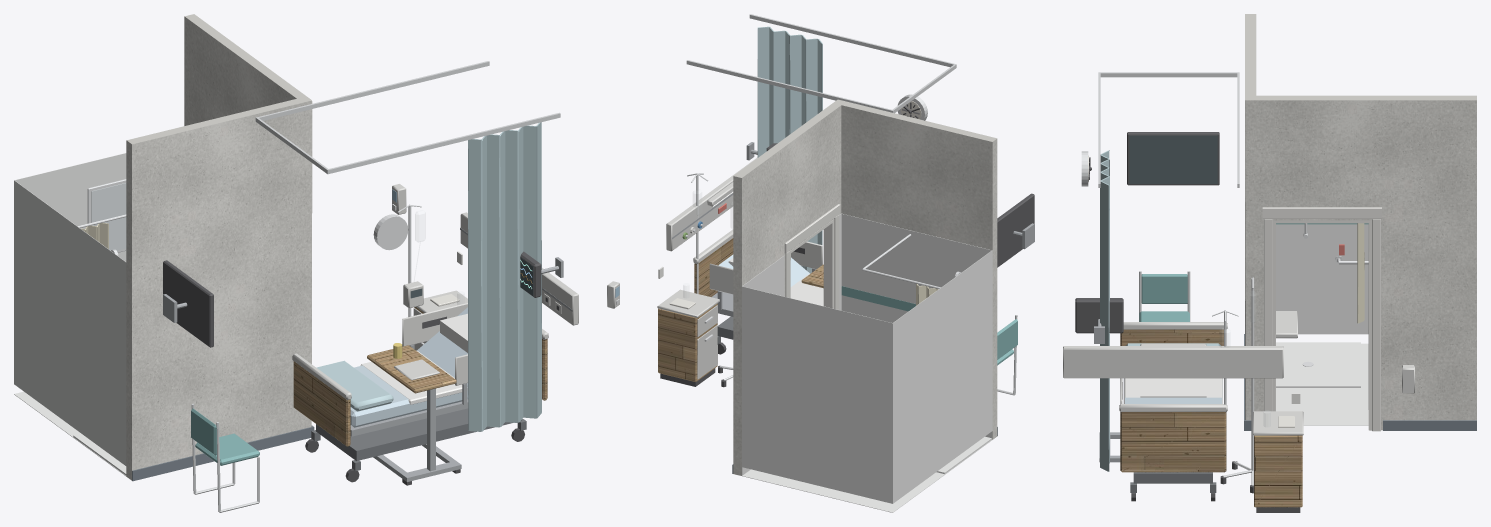
File: room_ward_364x358.glb
3 renders of one model, left to right at view 1: azimuth 30°, elevation 25°; view 2: azimuth 150°, elevation 25°; view 3: azimuth 270°, elevation 25°, orthographic. The views are drawn at different scales.
Visible parts, largest first — view 1: room_ward_364x358_plaster, room_ward_364x358_tile_c, room_ward_364x358_curtain, room_ward_364x358_cart_w, room_ward_364x358_laminate, room_ward_364x358_steel, room_ward_364x358_steel_d, room_ward_364x358_alu, room_ward_364x358_dark, room_ward_364x358_bed_b, room_ward_364x358_chrome, room_ward_364x358_vinyl_t (+3 smaller); view 2: room_ward_364x358_tile_c, room_ward_364x358_plaster, room_ward_364x358_curtain, room_ward_364x358_cart_w, room_ward_364x358_laminate, room_ward_364x358_frame, room_ward_364x358_alu, room_ward_364x358_dark, room_ward_364x358_chrome, room_ward_364x358_vinyl_t, room_ward_364x358_steel, room_ward_364x358_bed_w; view 3: room_ward_364x358_plaster, room_ward_364x358_tile_c, room_ward_364x358_laminate, room_ward_364x358_cart_w, room_ward_364x358_frame, room_ward_364x358_screen, room_ward_364x358_curtain, room_ward_364x358_dark, room_ward_364x358_vinyl_t, room_ward_364x358_bed_w, room_ward_364x358_chrome, room_ward_364x358_alu (+6 smaller).
Boxes of the visible parts, x1,y1,x2,y2 form: room_ward_364x358_plaster: (126, 14, 312, 480); room_ward_364x358_tile_c: (14, 153, 126, 476); room_ward_364x358_curtain: (316, 122, 541, 431); room_ward_364x358_cart_w: (292, 184, 578, 400); room_ward_364x358_laminate: (293, 307, 547, 446); room_ward_364x358_steel: (163, 228, 572, 481); room_ward_364x358_steel_d: (311, 408, 526, 471); room_ward_364x358_alu: (255, 61, 560, 174); room_ward_364x358_dark: (163, 251, 559, 347); room_ward_364x358_bed_b: (350, 307, 468, 427); room_ward_364x358_chrome: (77, 179, 424, 512); room_ward_364x358_vinyl_t: (191, 408, 259, 465); room_ward_364x358_tile_c: (742, 213, 992, 512); room_ward_364x358_plaster: (733, 99, 997, 475); room_ward_364x358_curtain: (757, 26, 822, 273); room_ward_364x358_cart_w: (607, 157, 822, 379); room_ward_364x358_laminate: (658, 238, 823, 381); room_ward_364x358_frame: (784, 204, 840, 309); room_ward_364x358_alu: (686, 14, 956, 113); room_ward_364x358_dark: (660, 102, 1034, 386); room_ward_364x358_chrome: (616, 94, 1017, 395); room_ward_364x358_vinyl_t: (841, 286, 1017, 365); room_ward_364x358_steel: (672, 142, 1034, 316); room_ward_364x358_bed_w: (728, 258, 823, 305); room_ward_364x358_plaster: (1245, 14, 1476, 430); room_ward_364x358_tile_c: (1276, 224, 1368, 425); room_ward_364x358_laminate: (1120, 329, 1302, 507); room_ward_364x358_cart_w: (1063, 311, 1414, 435); room_ward_364x358_frame: (1262, 207, 1381, 431); room_ward_364x358_screen: (1129, 135, 1217, 183); room_ward_364x358_curtain: (1100, 150, 1220, 471); room_ward_364x358_dark: (1075, 132, 1300, 512); room_ward_364x358_vinyl_t: (1139, 223, 1368, 321); room_ward_364x358_bed_w: (1124, 378, 1222, 403); room_ward_364x358_chrome: (1081, 151, 1368, 485); room_ward_364x358_alu: (1098, 72, 1239, 187).
Size of the model in its own units: 3.7 by 3.31 by 3.75.
33 materials, 2 textured.
